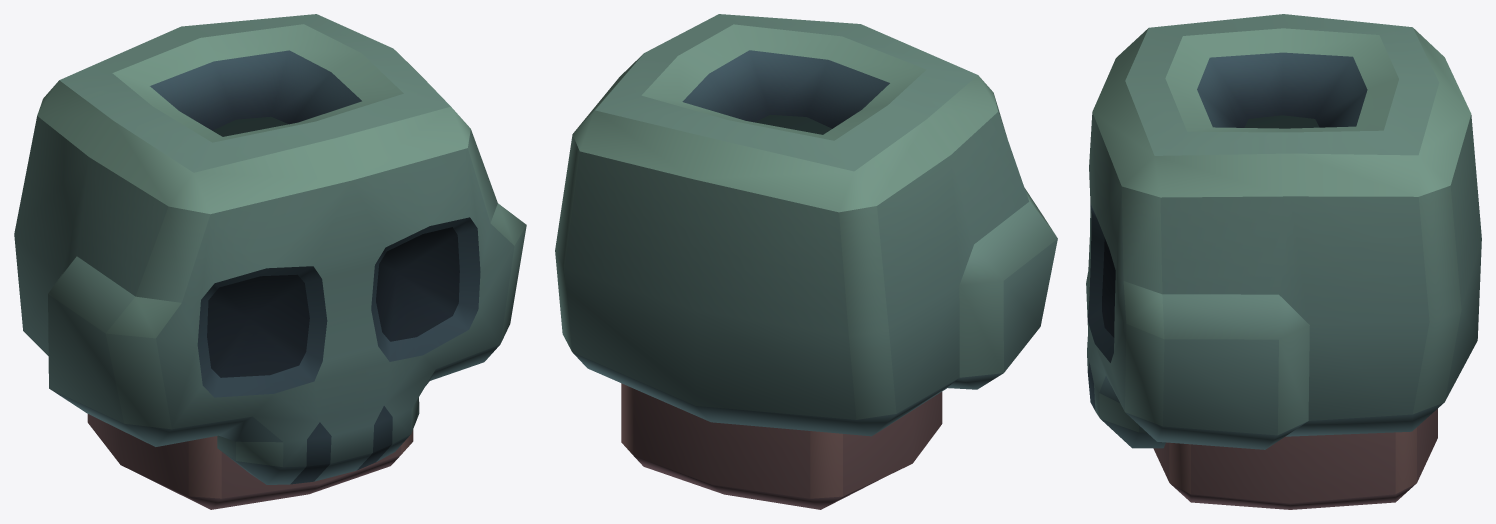
File: torch_small_LOD_etup.fbx
3 views of the same model, side by side, from view 1: azimuth 30°, elevation 25°; view 2: azimuth 150°, elevation 25°; view 3: azimuth 270°, elevation 25° (orthographic). The views are drawn at different scales.
Visible parts, largest first — view 1: torch_small_LOD0; view 2: torch_small_LOD0; view 3: torch_small_LOD0.
Part boxes in pixels (x1,y1,x2,y2): torch_small_LOD0: (14, 14, 526, 509); torch_small_LOD0: (555, 14, 1057, 509); torch_small_LOD0: (1086, 14, 1481, 509).
Size of what is drawn, in the model's own units: 91.16 by 76.62 by 72.23.
